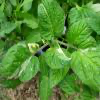Tomato leaf: (37, 0, 66, 41), (67, 19, 92, 43), (0, 19, 19, 37)
